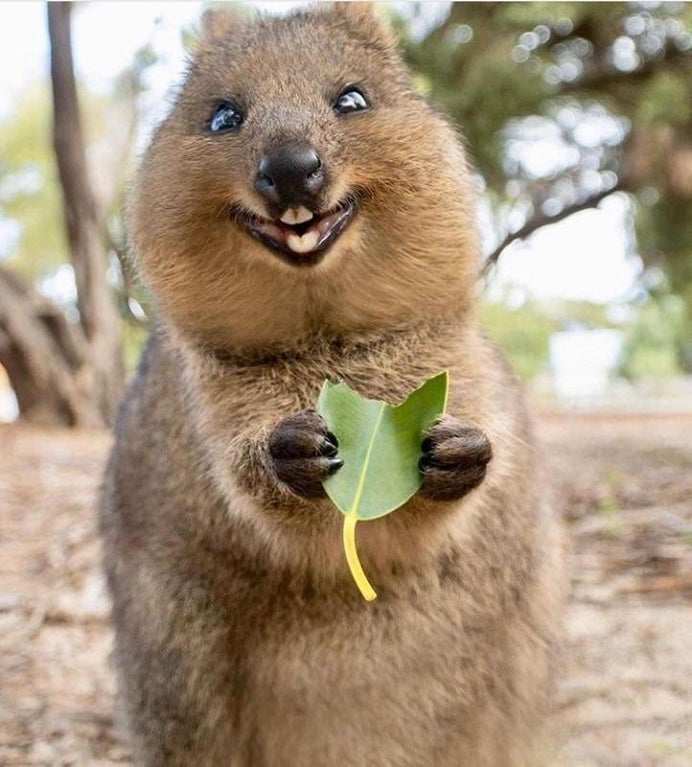quokka: (44, 4, 580, 767)
